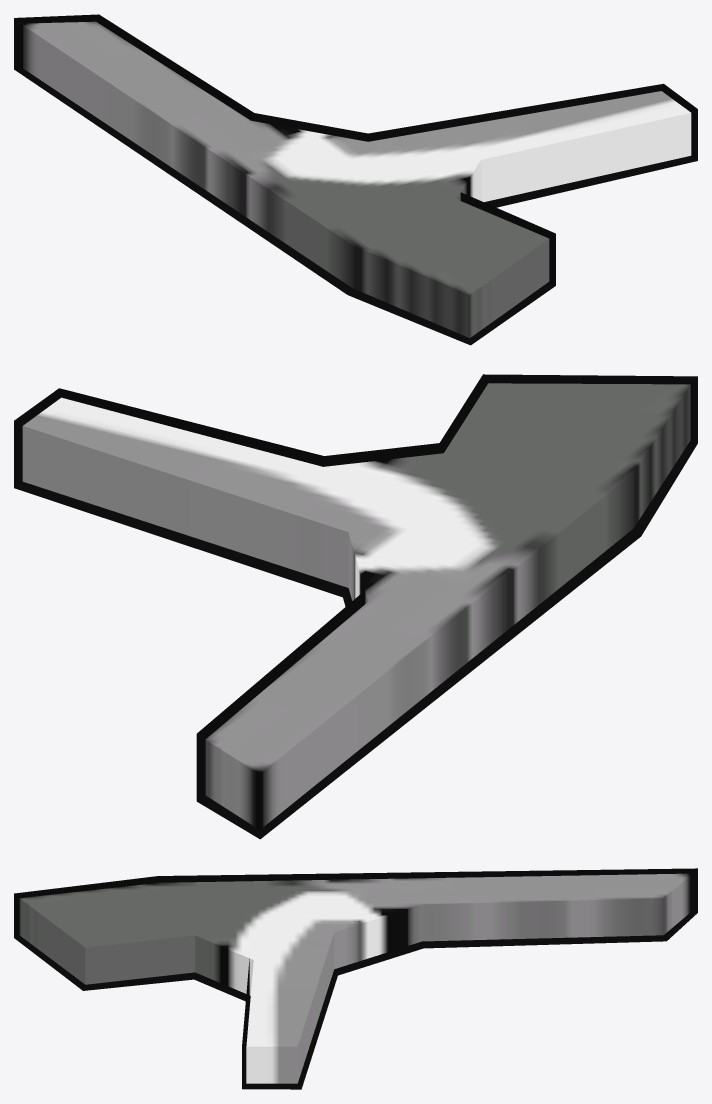
File: Item_Apparel_Gunlink_Things_Pawn_Humanlike_Apparel_Gunlink_Gunlink.glb
3 views of the same model, one above another, from view 1: azimuth 30°, elevation 25°; view 2: azimuth 150°, elevation 25°; view 3: azimuth 270°, elevation 25° (orthographic). The views are drawn at different scales.
Visible parts, largest first — view 1: Body, Outline; view 2: Body, Outline; view 3: Body, Outline.
Part boxes in pixels (<box>): Body: <box>20,21,691,337</box>; Outline: <box>14,14,697,345</box>; Body: <box>22,383,690,829</box>; Outline: <box>14,374,697,839</box>; Body: <box>19,873,692,1083</box>; Outline: <box>14,868,697,1089</box>.
Bounding box in the file's own units: 0.4458 × 0.0567 × 0.7301.
2 materials, 1 textured.
